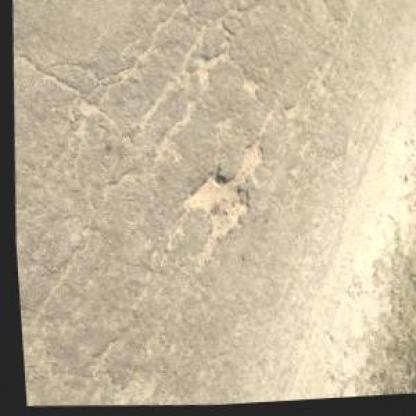pothole: (172, 136, 268, 269)
